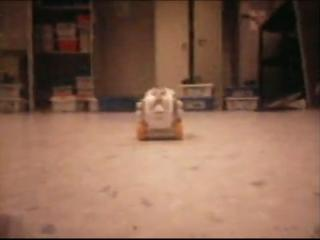cozmo: (134, 85, 184, 141)
